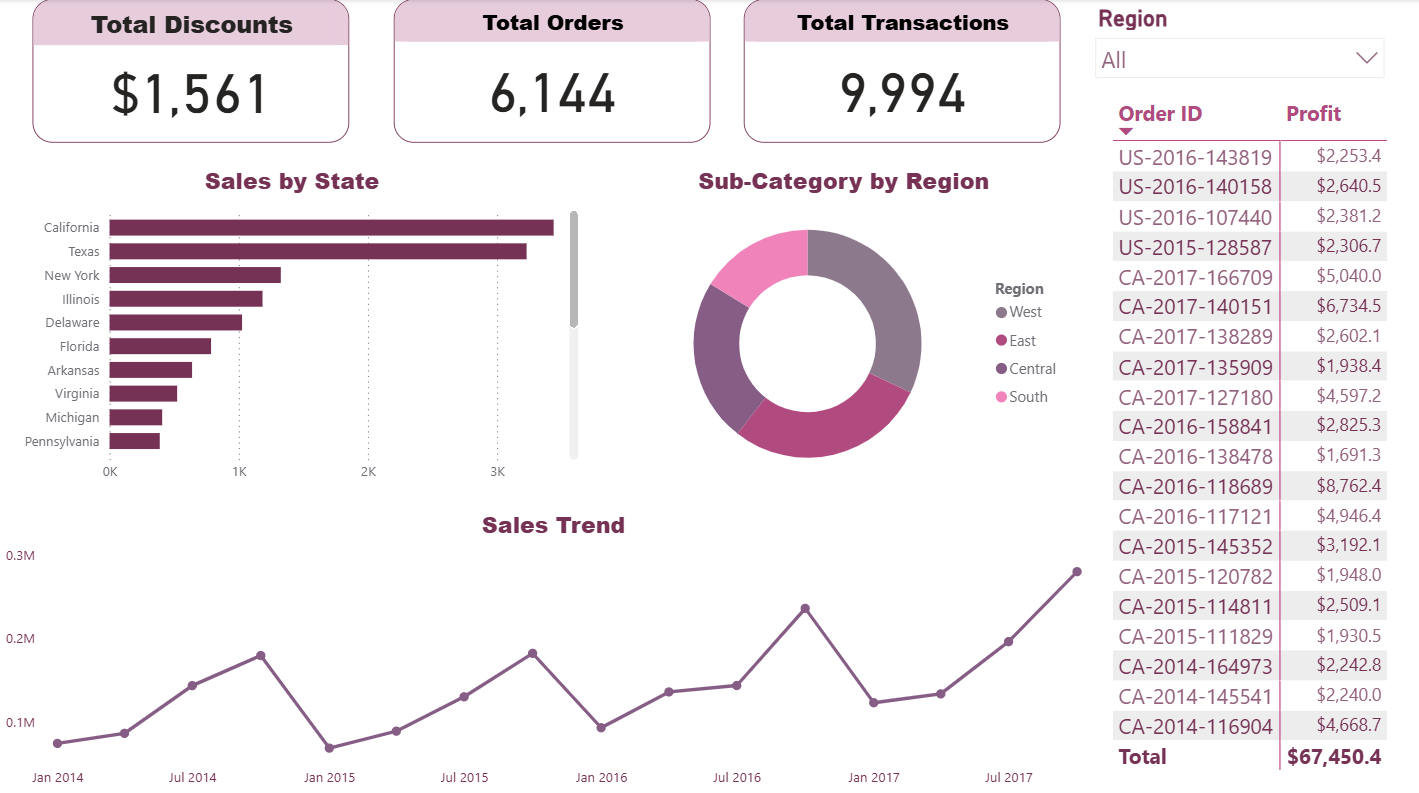

The dashboard page shown, as its layout file describes it:
{"tool":"powerbi","page":{"name":"Page 2","canvas":[1280,720],"ordinal":1},"visuals":[{"type":"card","title":"Total Transactions","fields":{"Values":["CountNonNull(Orders (2).Row ID)"]},"box":[670.9,0,285.7,129.8],"z":1000},{"type":"card","title":"Total Orders","fields":{"Values":["Count(Orders (2).Sales)"]},"box":[354.9,0,285.7,129.8],"z":2000},{"type":"clusteredBarChart","title":"Sales by State","fields":{"Category":["Orders.State"],"Y":["Sum(Orders.Sales)"]},"box":[0,148.6,526.6,295.8],"z":6000},{"type":"pivotTable","fields":{"Rows":["Orders.Order ID"],"Values":["Sum(Orders.Profit)"]},"box":[998.4,83.7,281.3,621.8],"z":7000},{"type":"donutChart","title":"Sub-Category by Region","fields":{"Category":["Orders.Region"],"Y":["CountNonNull(Orders.Sub-Category)"]},"box":[554,148.6,412.6,295.8],"z":8000},{"type":"slicer","fields":{"Values":["Orders.Region"]},"box":[976.7,0,281.3,83.7],"z":8001},{"type":"card","title":"Total Discounts","fields":{"Values":["Sum(Orders.Discount)"]},"box":[28.9,0,285.7,129.8],"z":8002},{"type":"lineChart","title":"Sales Trend","fields":{"Category":["Orders (2).Order Date.Variation.Date Hierarchy.Year","Orders (2).Order Date.Variation.Date Hierarchy.Quarter"],"Y":["Sum(Orders (2).Sales)"]},"box":[0,458.8,998.4,261.1],"z":8003}]}

Visuals, with their boxes in screenshot pixels (x1, y1, x2, y2), scaled from the page's 1280x720 canvas onto the 1419x793 screenshot:
"Total Transactions" card: [744,0,1060,143]
"Total Orders" card: [393,0,710,143]
"Sales by State" clusteredBarChart: [0,164,584,489]
pivotTable - Orders.Order ID x Sum(Orders.Profit): [1107,92,1418,777]
"Sub-Category by Region" donutChart: [614,164,1072,489]
slicer - Orders.Region: [1083,0,1395,92]
"Total Discounts" card: [32,0,349,143]
"Sales Trend" lineChart: [0,505,1107,792]
